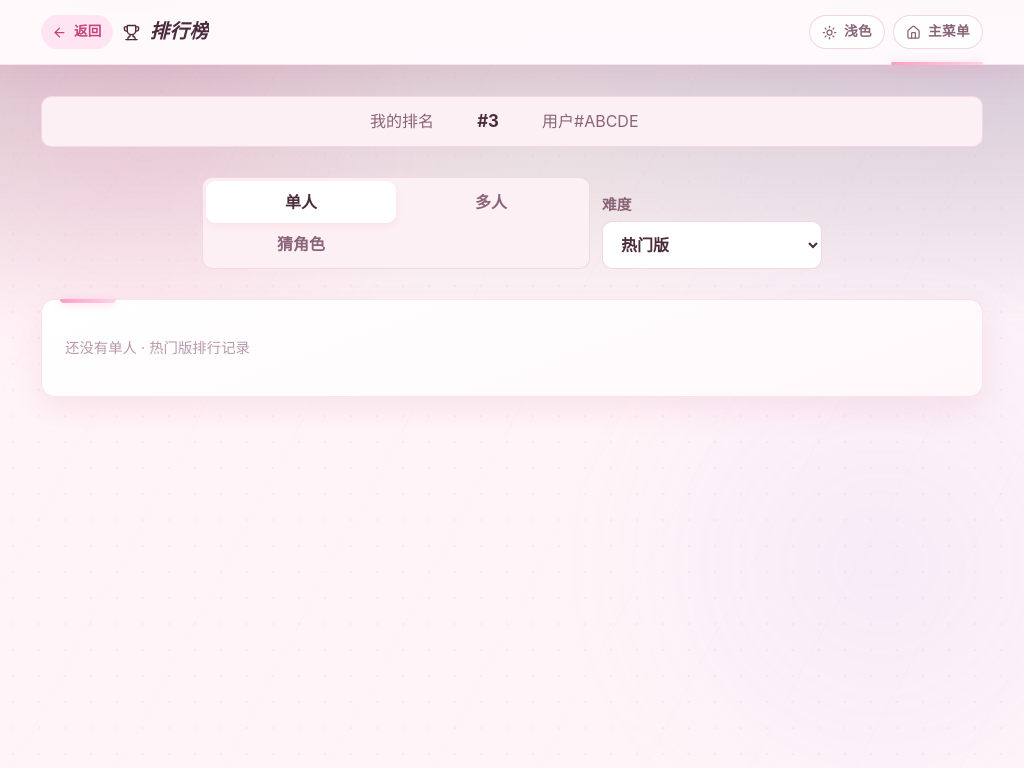
it: Leaderboard filters › keeps the current-user summary mounted while a new ranking loads
expect the element labelled "我的排名" shows "#3": met, box x1=477 y1=111 x2=499 y2=131
Click the tab "多人" at (491, 202), box x1=396 y1=181 x2=586 y2=223
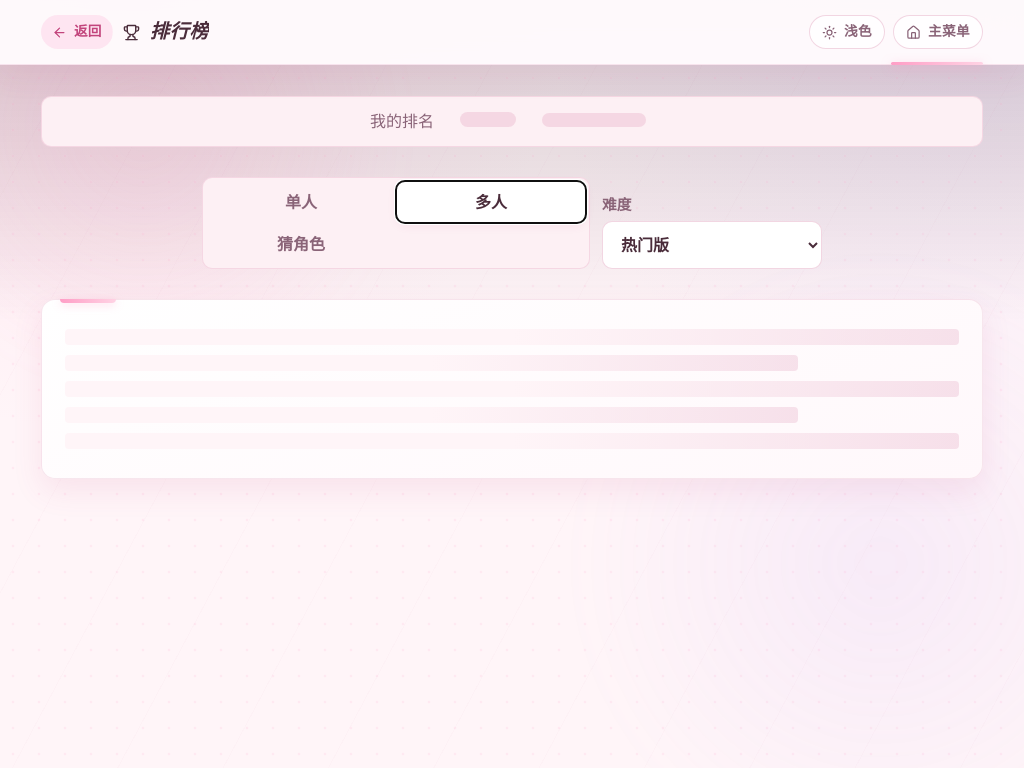
expect the element labelled "我的排名" no longer shows "#3": met, box x1=41 y1=96 x2=983 y2=147
